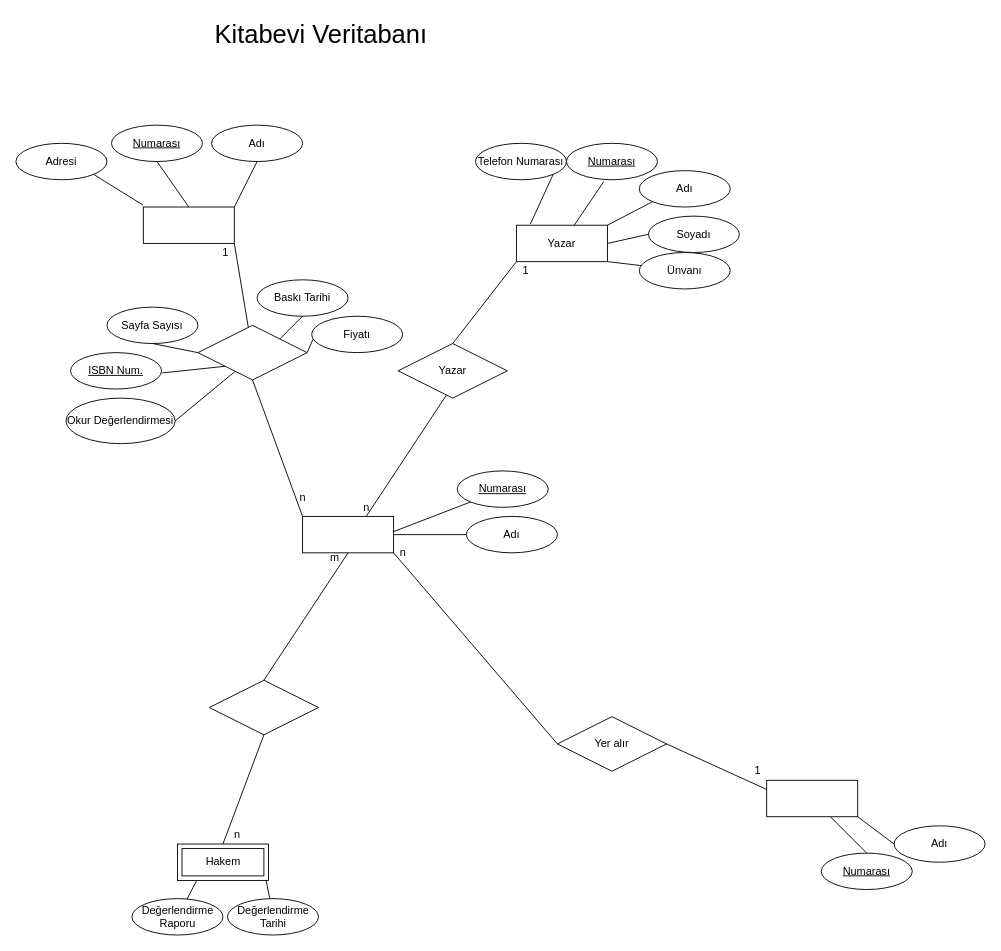
The diagram is 1001 pixels wide and 951 high, and some of its shapes have lost their labels. The shapes that lost their labels are listed below. From the top down, each one's box as (x1, y1, x2, y2) in pixels, then its label:
(142, 206, 234, 243): Yayıncı
(197, 324, 307, 380): Yayınlar
(302, 516, 394, 553): Kitap
(208, 679, 318, 735): Sahiptir
(766, 779, 858, 817): Kategori
